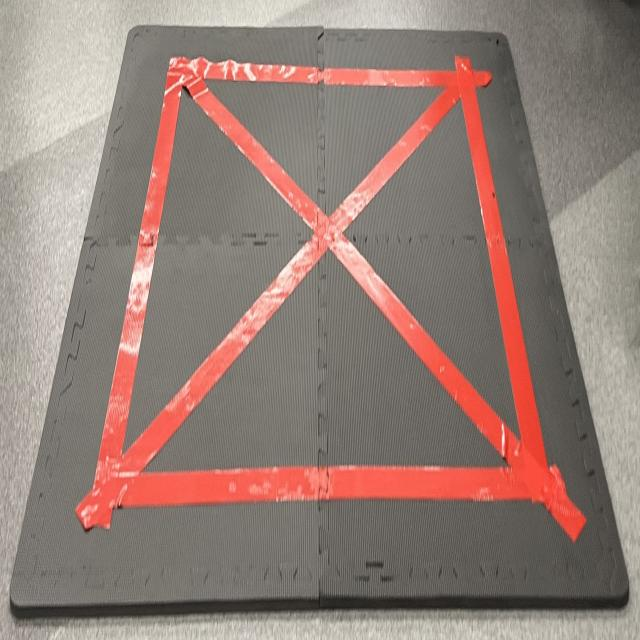landingPads: (9, 30, 627, 618)
